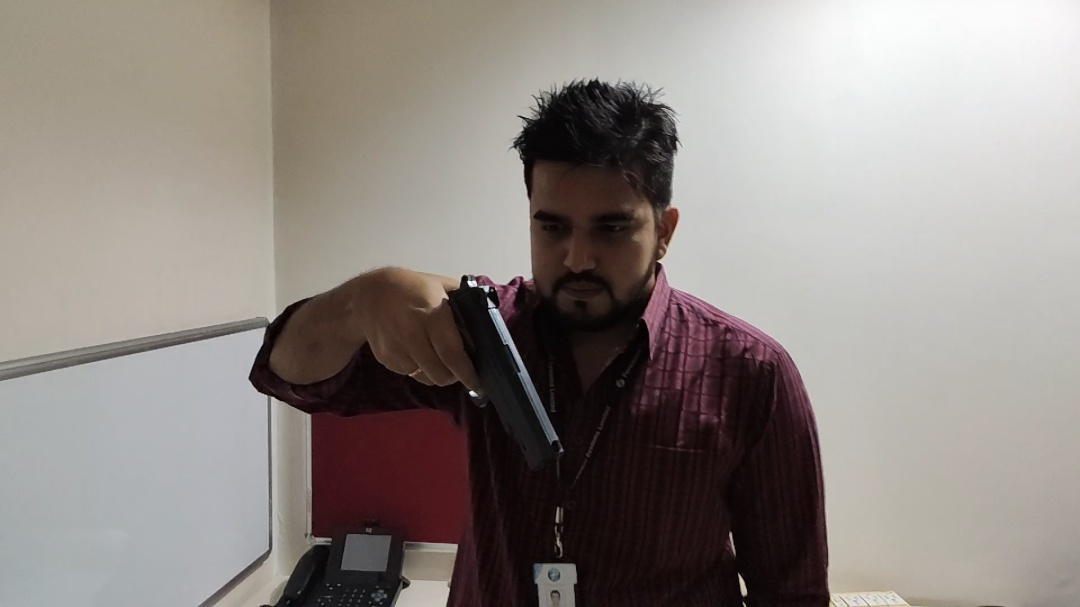gun: (412, 274, 568, 474)
